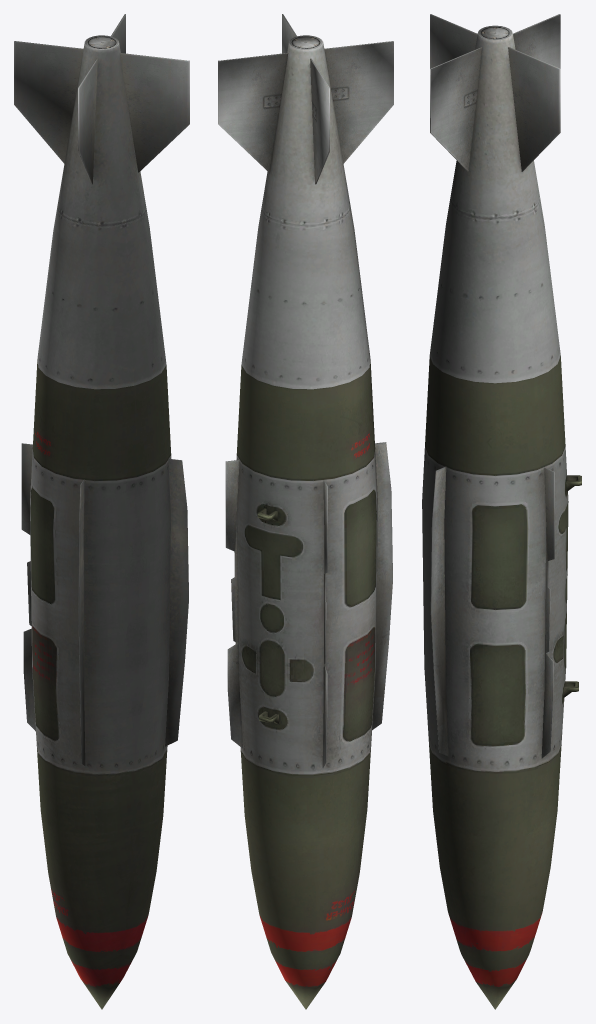
Rendered from jdam-b.glb.
The picture shows the model from 3 angles, left to right: view 1: azimuth 30°, elevation 25°; view 2: azimuth 150°, elevation 25°; view 3: azimuth 270°, elevation 25°; orthographic projection.
Parts seen in each view (by area): view 1: JDAM (2); view 2: JDAM (2); view 3: JDAM (2).
Boxes of the visible parts, x1,y1,x2,y2 form: JDAM (2): [14, 14, 189, 1009]; JDAM (2): [218, 14, 393, 1009]; JDAM (2): [422, 14, 581, 1009].
Bounding box in the file's own units: 0.326 × 2.4 × 0.3559.
Materials: 1 (1 with a texture image).
